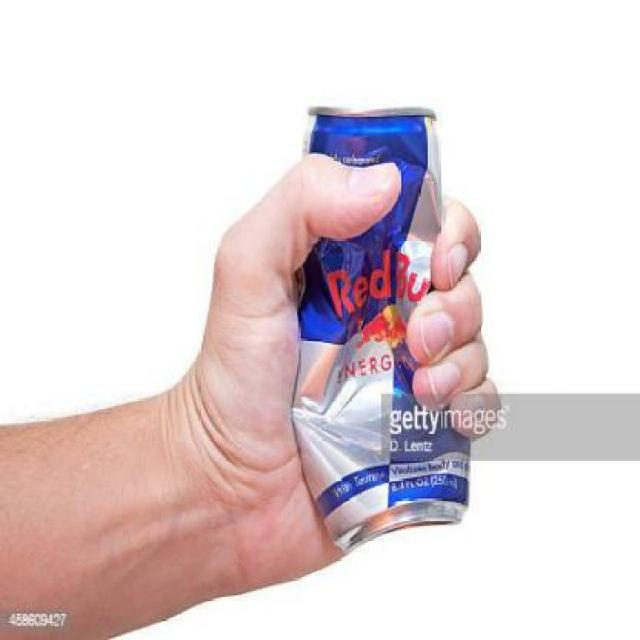non-organic waste: (278, 52, 496, 565)
